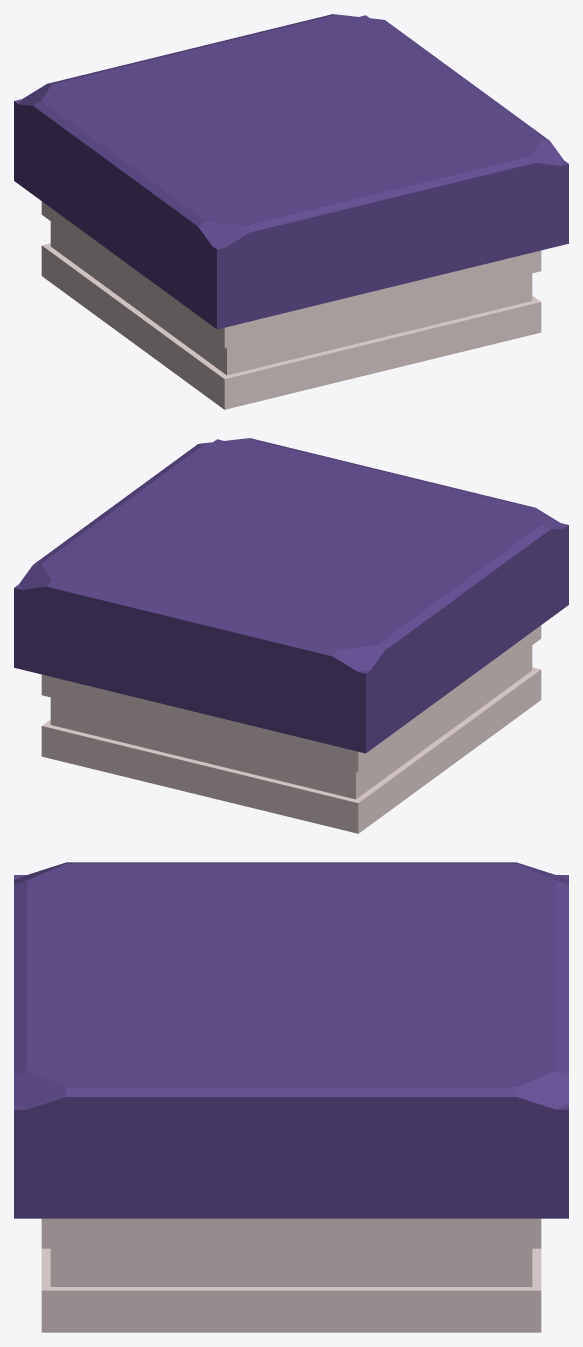
File: checkerboard_2_1x1.fbx
The picture shows the model from 3 angles, top to bottom: view 1: azimuth 30°, elevation 25°; view 2: azimuth 150°, elevation 25°; view 3: azimuth 270°, elevation 25°; orthographic projection. The views are drawn at different scales.
Parts seen in each view (by area): view 1: Cube.026, Cube.023; view 2: Cube.026, Cube.023; view 3: Cube.026, Cube.023.
Boxes of the visible parts, bbox=[...] form: Cube.026: bbox=[14, 14, 568, 329]; Cube.023: bbox=[41, 201, 541, 409]; Cube.026: bbox=[14, 438, 568, 753]; Cube.023: bbox=[41, 625, 541, 833]; Cube.026: bbox=[14, 862, 568, 1218]; Cube.023: bbox=[41, 1218, 541, 1332].
Size of the model in its own units: 100 by 50 by 100.
